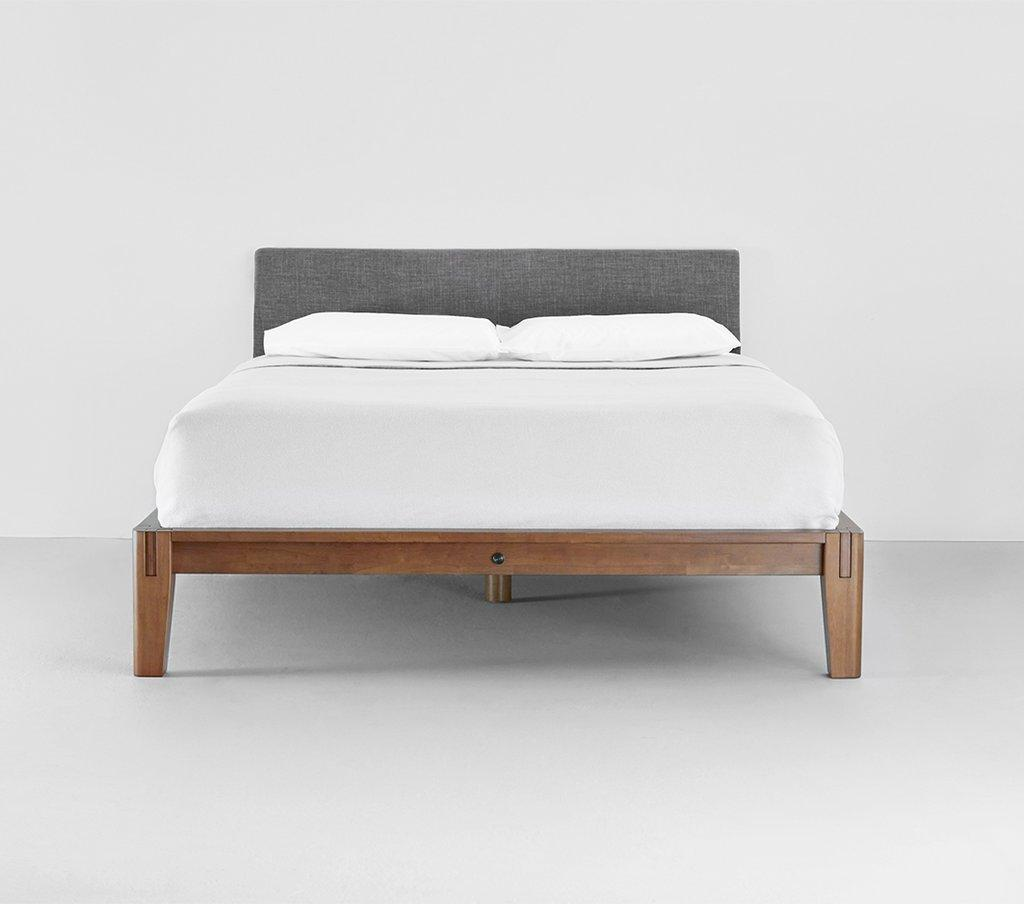bed: (86, 226, 972, 648)
